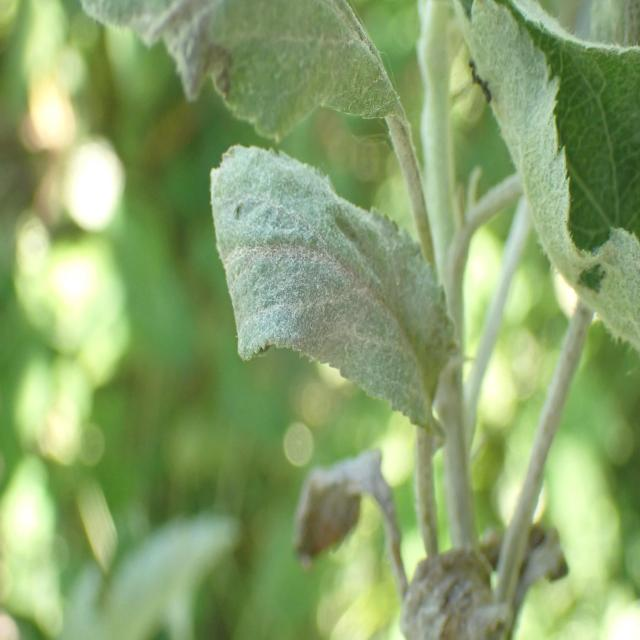Powdery_mildew: (202, 142, 452, 452), (436, 0, 639, 370), (84, 0, 418, 200), (274, 430, 413, 580)
